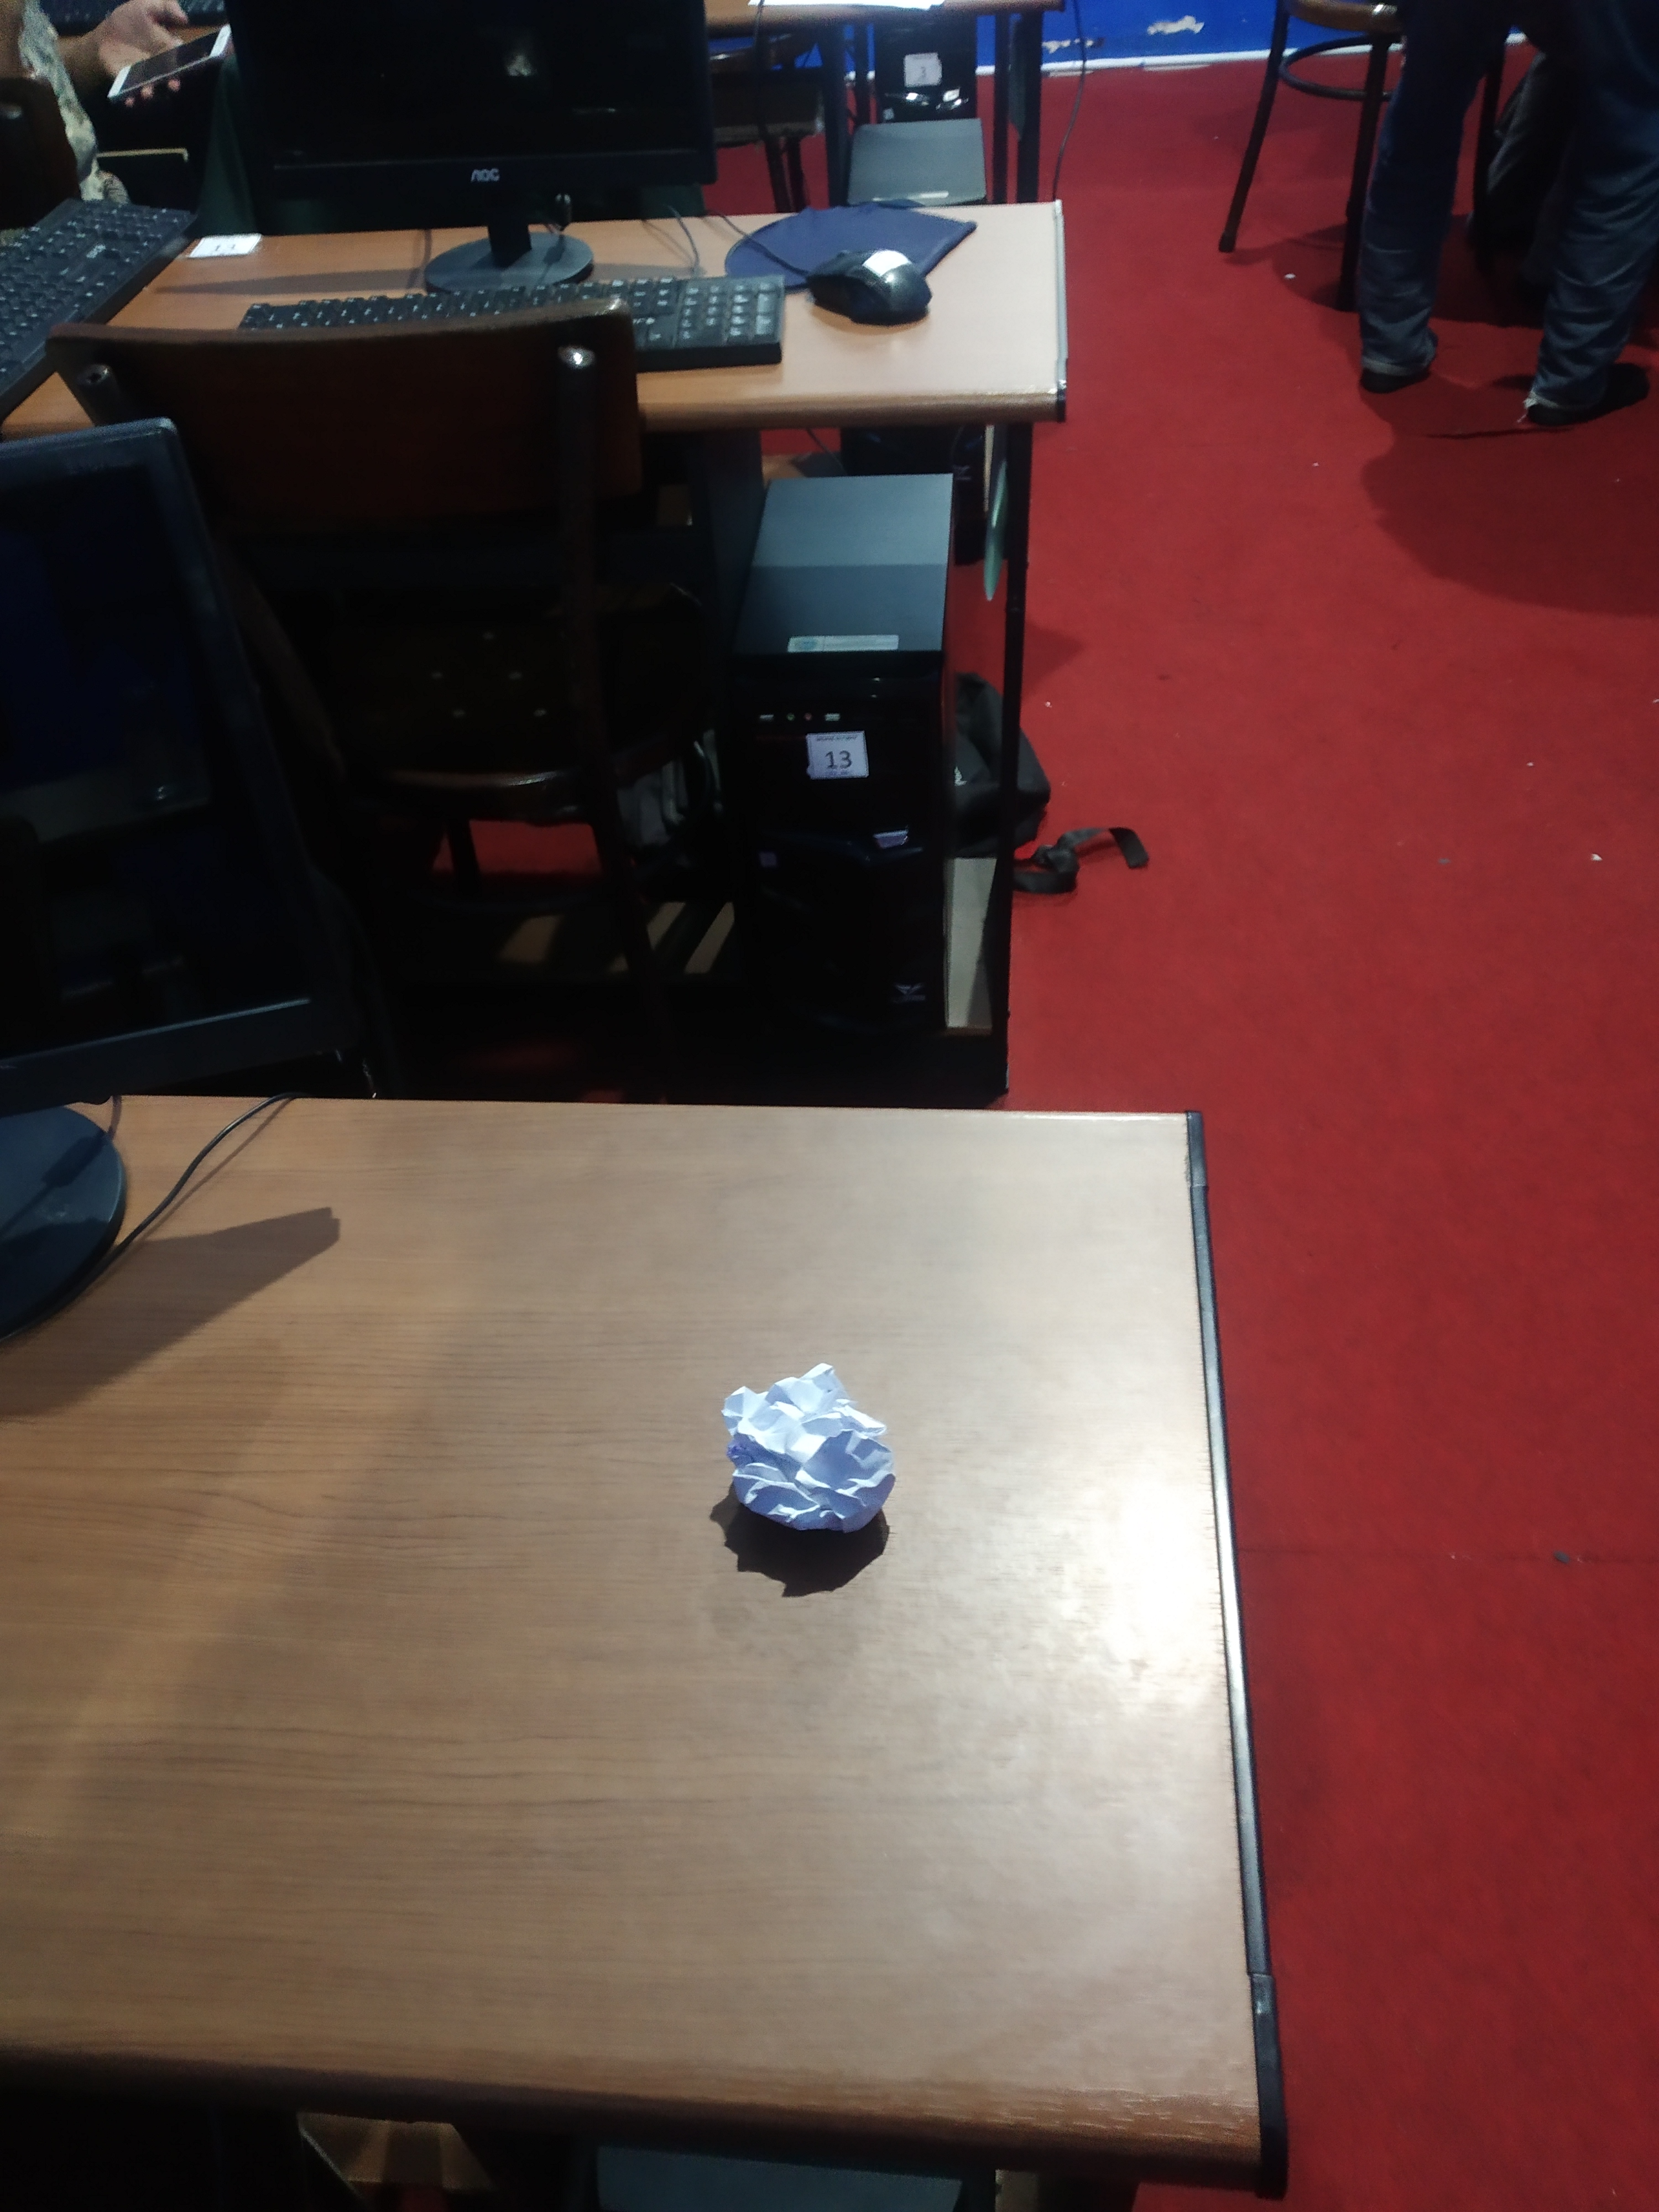kertas: (701, 1339, 929, 1583)
